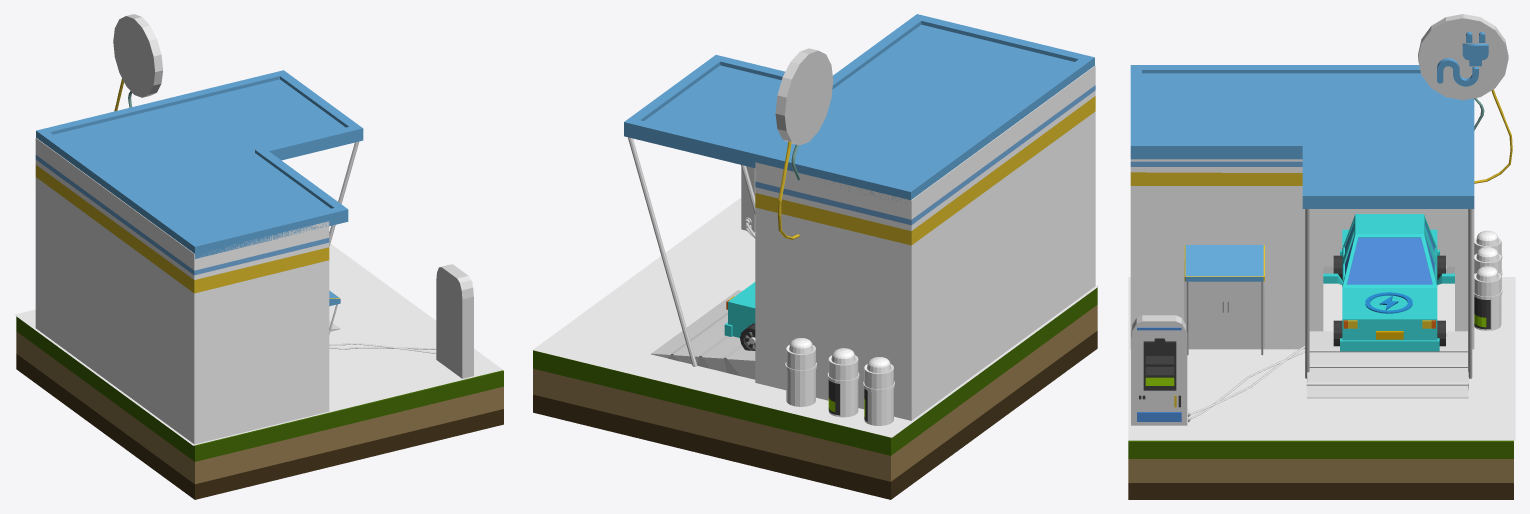
File: EVChargerPrefab.fbx
3 views of the same model, side by side, from view 1: azimuth 30°, elevation 25°; view 2: azimuth 150°, elevation 25°; view 3: azimuth 270°, elevation 25° (orthographic). The views are drawn at different scales.
Visible parts, largest first — view 1: electronic center, Cube.212, house ground.010, Plane.130, Cube.217, Cylinder.072; view 2: electronic center, Cube.212, house ground.010, Plane.130, Cylinder.072, Plane.125, Cylinder.084, Cylinder.083, Cylinder.085, Cylinder.074, car.001, Cube.217; view 3: Cube.212, electronic center, Plane.130, house ground.010, car.001, Plane.125, Cylinder.072, Cube.217, Cube.213, Cylinder.085, Curve.003, Plane.126 (+7 smaller).
Part boxes in pixels (<box>): electronic center: <box>35,138,329,444</box>; Cube.212: <box>36,70,363,258</box>; house ground.010: <box>16,316,503,499</box>; Plane.130: <box>14,243,502,445</box>; Cube.217: <box>436,264,473,378</box>; Cylinder.072: <box>113,14,162,97</box>; electronic center: <box>755,65,1095,420</box>; Cube.212: <box>624,14,1094,201</box>; house ground.010: <box>533,287,1097,499</box>; Plane.130: <box>533,198,1098,437</box>; Cylinder.072: <box>775,48,833,145</box>; Plane.125: <box>651,290,755,379</box>; Cylinder.084: <box>827,348,859,417</box>; Cylinder.083: <box>863,357,894,425</box>; Cylinder.085: <box>785,338,816,406</box>; Cylinder.074: <box>628,137,697,366</box>; car.001: <box>724,282,755,337</box>; Cube.217: <box>741,166,755,232</box>; Cube.212: <box>1130,65,1474,208</box>; electronic center: <box>1130,159,1474,349</box>; Plane.130: <box>1128,277,1515,440</box>; house ground.010: <box>1128,440,1513,499</box>; car.001: <box>1340,214,1439,351</box>; Plane.125: <box>1306,331,1468,398</box>; Cylinder.072: <box>1418,14,1508,100</box>; Cube.217: <box>1131,315,1187,425</box>; Cube.213: <box>1184,245,1264,281</box>; Cylinder.085: <box>1474,266,1502,330</box>; Curve.003: <box>1437,32,1488,86</box>; Plane.126: <box>1143,338,1176,390</box>.
Size of the model in its own units: 209 by 222 by 209.
